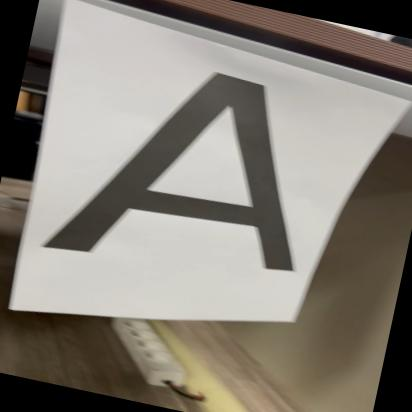seat: (39, 36, 344, 322)
